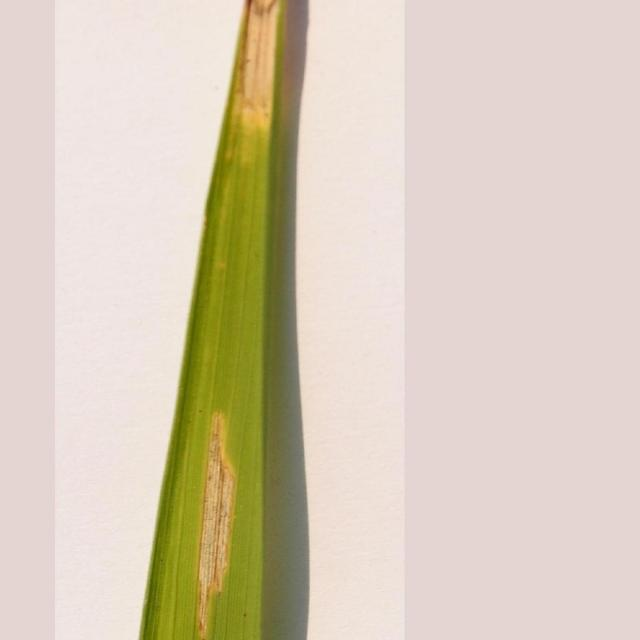leaf blight: (193, 407, 254, 640), (215, 1, 290, 130)
